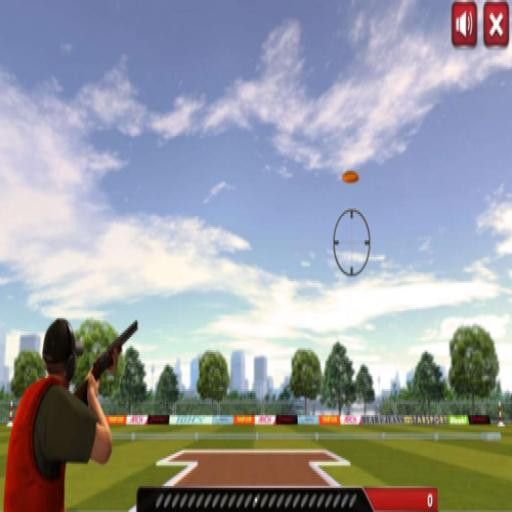shooting: (2, 315, 116, 510)
